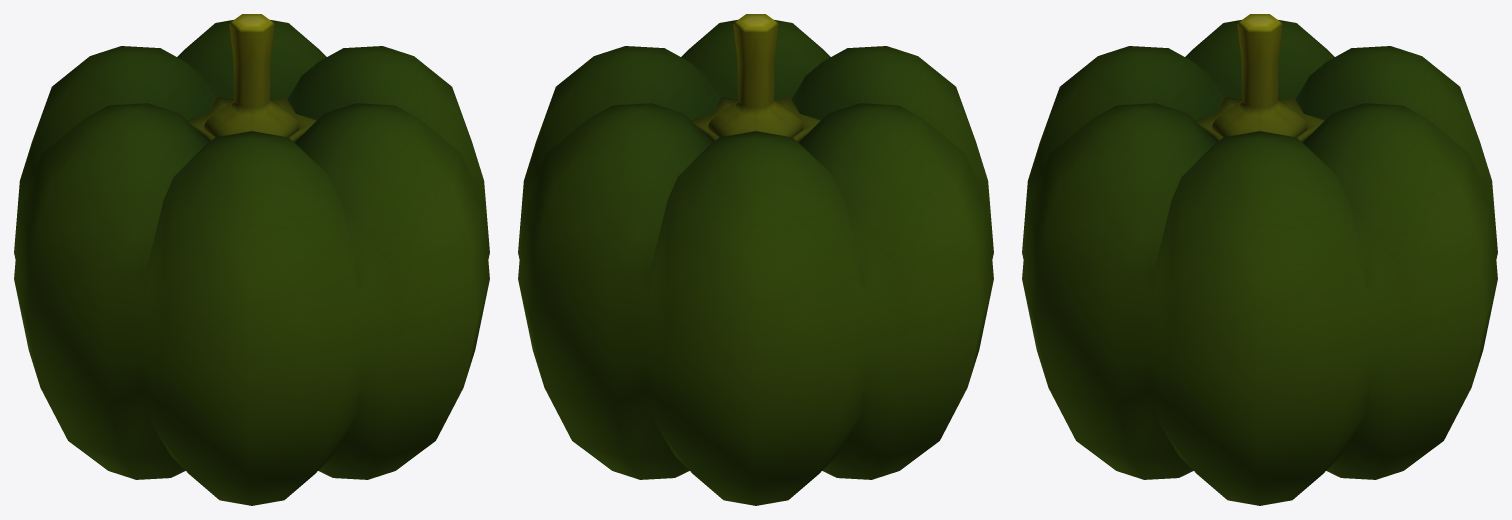
Rendered from Pepper_G.fbx.
3 views of the same model, side by side, from view 1: azimuth 30°, elevation 25°; view 2: azimuth 150°, elevation 25°; view 3: azimuth 270°, elevation 25° (orthographic).
Parts seen in each view (by area): view 1: Pepper_G_Whole; view 2: Pepper_G_Whole; view 3: Pepper_G_Whole.
Part boxes in pixels (x1,y1,x2,y2): Pepper_G_Whole: (14,14,489,505); Pepper_G_Whole: (518,14,993,505); Pepper_G_Whole: (1022,14,1497,505).
Bounding box in the file's own units: 2.3 × 2.08 × 2.11.
